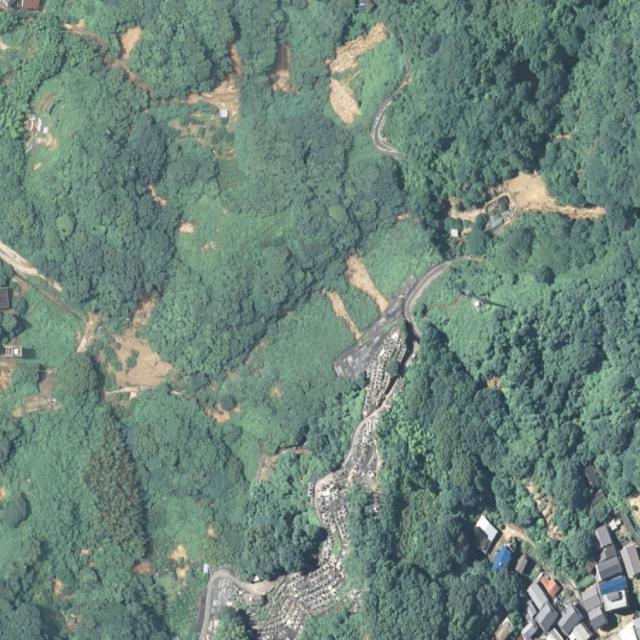landslide: (160, 41, 240, 160), (92, 290, 175, 394), (491, 172, 606, 219), (109, 26, 151, 97), (345, 254, 389, 309), (0, 241, 49, 282), (327, 290, 359, 338), (24, 115, 56, 154), (331, 79, 360, 121), (78, 312, 98, 352), (450, 199, 481, 222), (273, 64, 291, 88)
